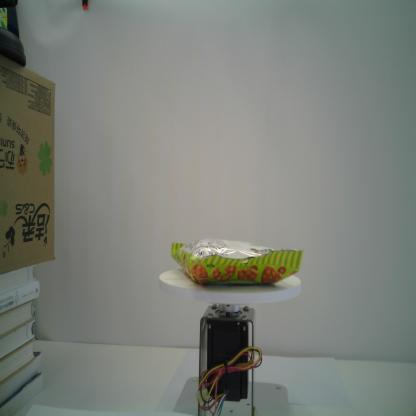Puffed Food: (170, 236, 304, 287)
